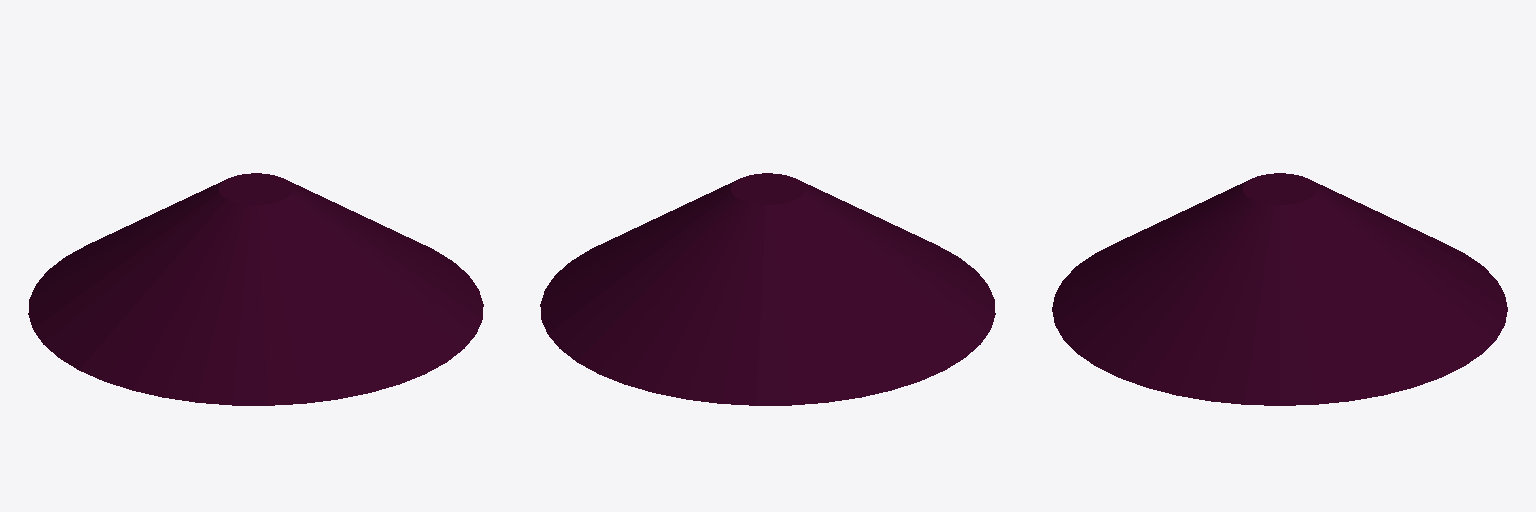
The model's file is lamp_ceiling.obj.
3 renders of one model, left to right at view 1: azimuth 30°, elevation 25°; view 2: azimuth 150°, elevation 25°; view 3: azimuth 270°, elevation 25°, orthographic.
Parts seen in each view (by area): view 1: Cylinder; view 2: Cylinder; view 3: Cylinder.
Boxes of the visible parts, x1,y1,x2,y2 form: Cylinder: [28, 173, 483, 405]; Cylinder: [540, 173, 995, 405]; Cylinder: [1052, 173, 1507, 405].
Bounding box in the file's own units: 1.75 × 0.5651 × 1.75.